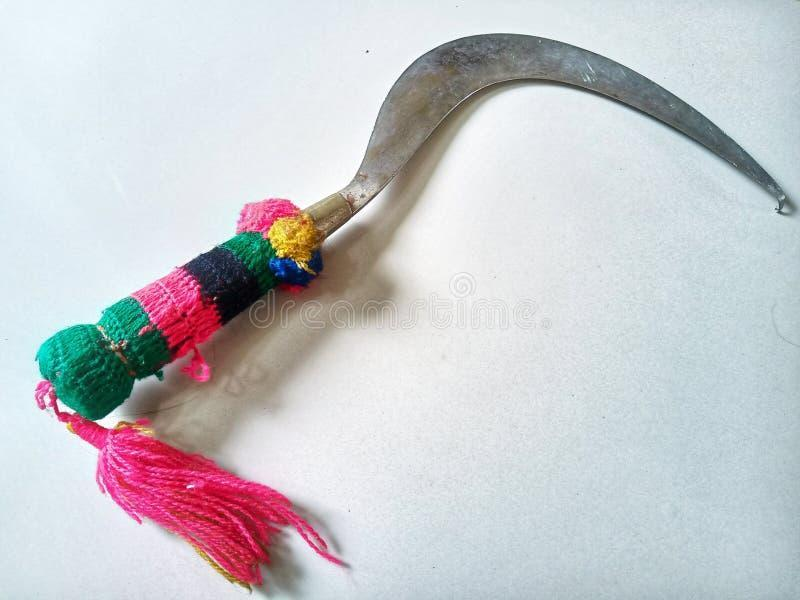foice: (45, 29, 800, 421)
